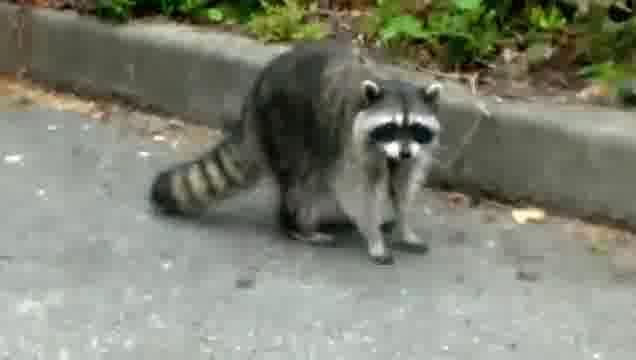raccoon: (146, 44, 446, 267)
